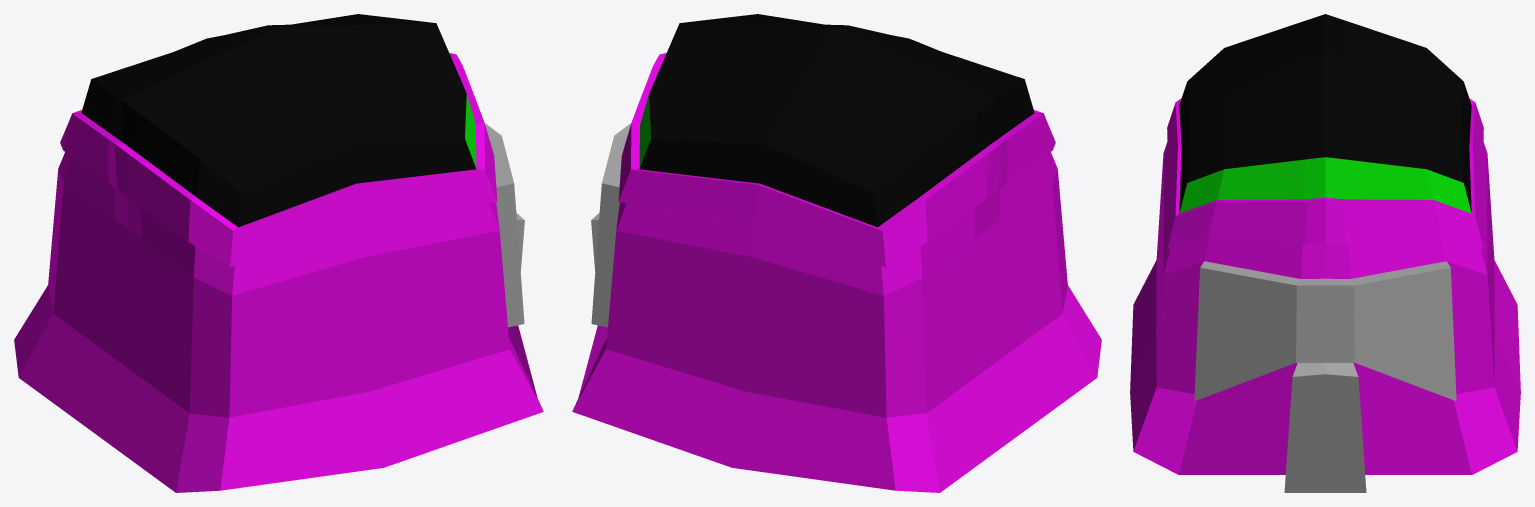
Rendered from helmet please work.fbx.
The picture shows the model from 3 angles, left to right: view 1: azimuth 30°, elevation 25°; view 2: azimuth 150°, elevation 25°; view 3: azimuth 270°, elevation 25°; orthographic projection. The views are drawn at different scales.
Parts seen in each view (by area): view 1: Cube; view 2: Cube; view 3: Cube.
Boxes of the visible parts, box(x1,y1,x2,y2) form: Cube: box(14, 14, 543, 492); Cube: box(572, 14, 1101, 492); Cube: box(1130, 14, 1520, 492).
Size of the model in its own units: 260 by 223 by 231.
